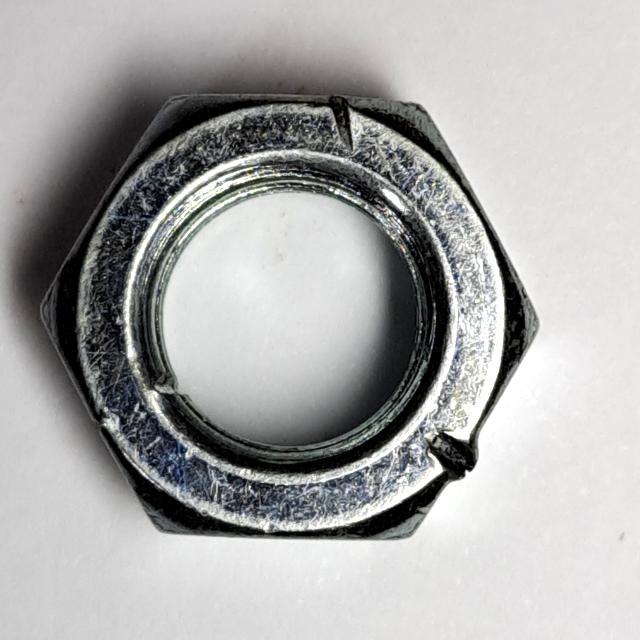Scratches: (25, 79, 558, 562)
